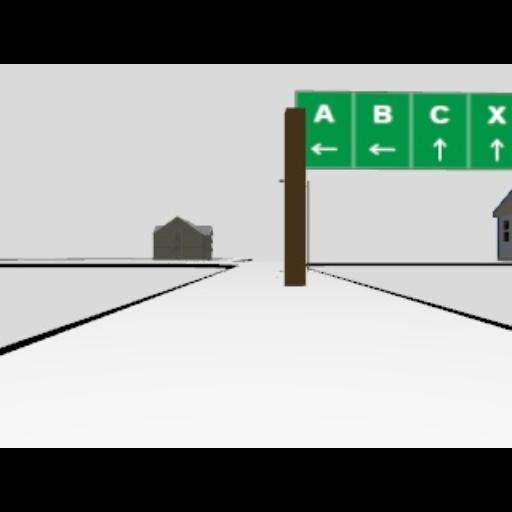A: (312, 102, 334, 124)
B: (372, 104, 392, 124)
C: (428, 104, 450, 124)
Left: (308, 142, 338, 156), (367, 142, 397, 156)
Straight: (432, 136, 446, 160), (490, 138, 504, 160)
X: (486, 104, 508, 124)
